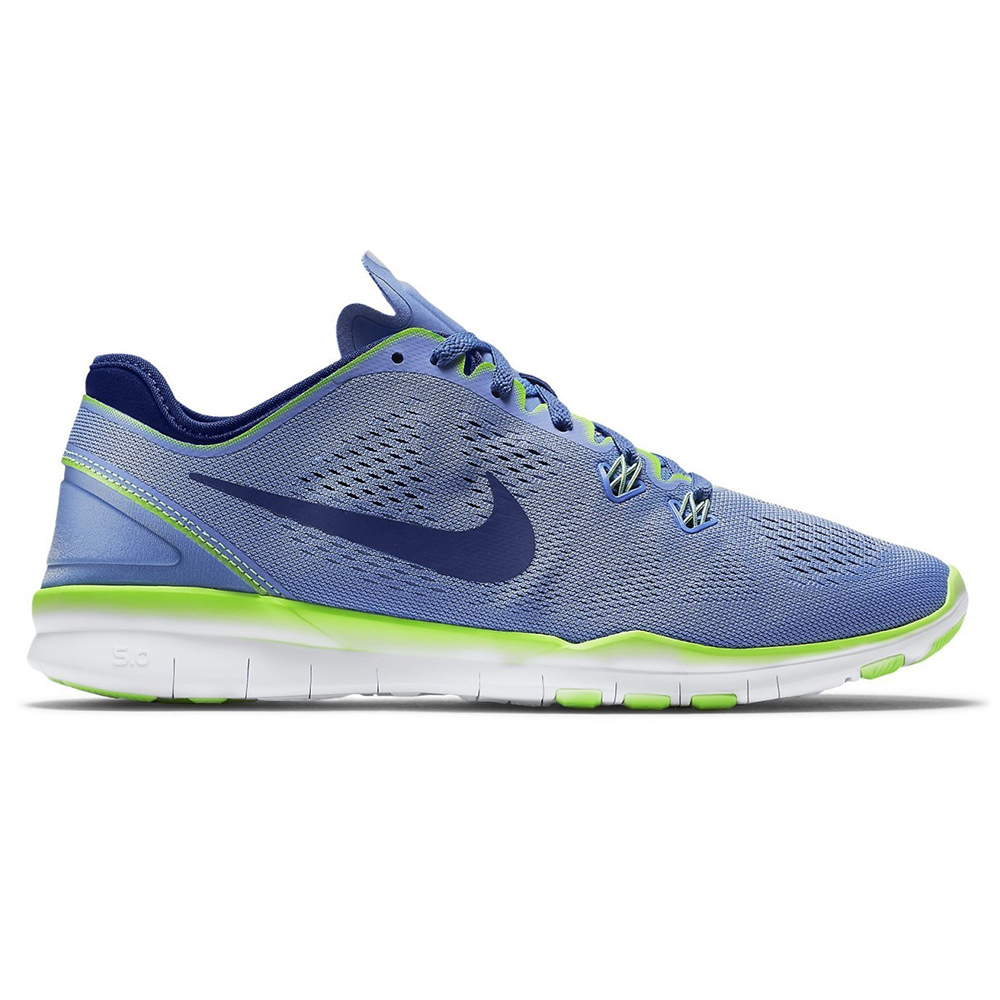Nike: (176, 459, 558, 593)
